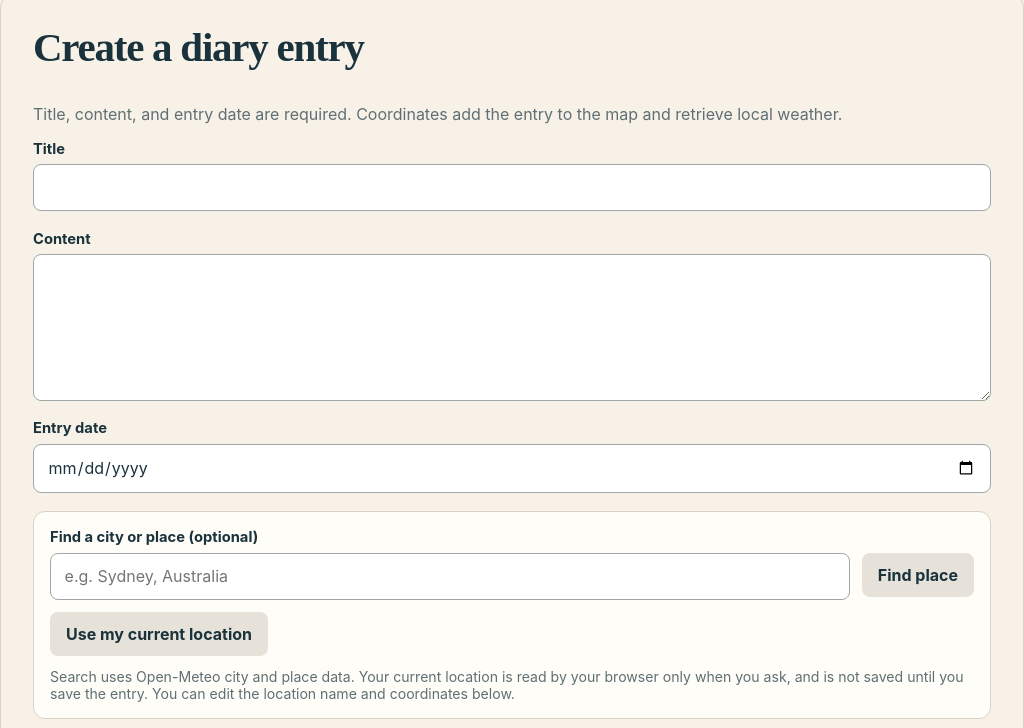
place search in diary forms › keeps manual coordinates available when the place service fails
Type "Kyoto" into the search field labelled "Find a city or place (optional)". click: (450, 576)
box: [50,553,850,600]
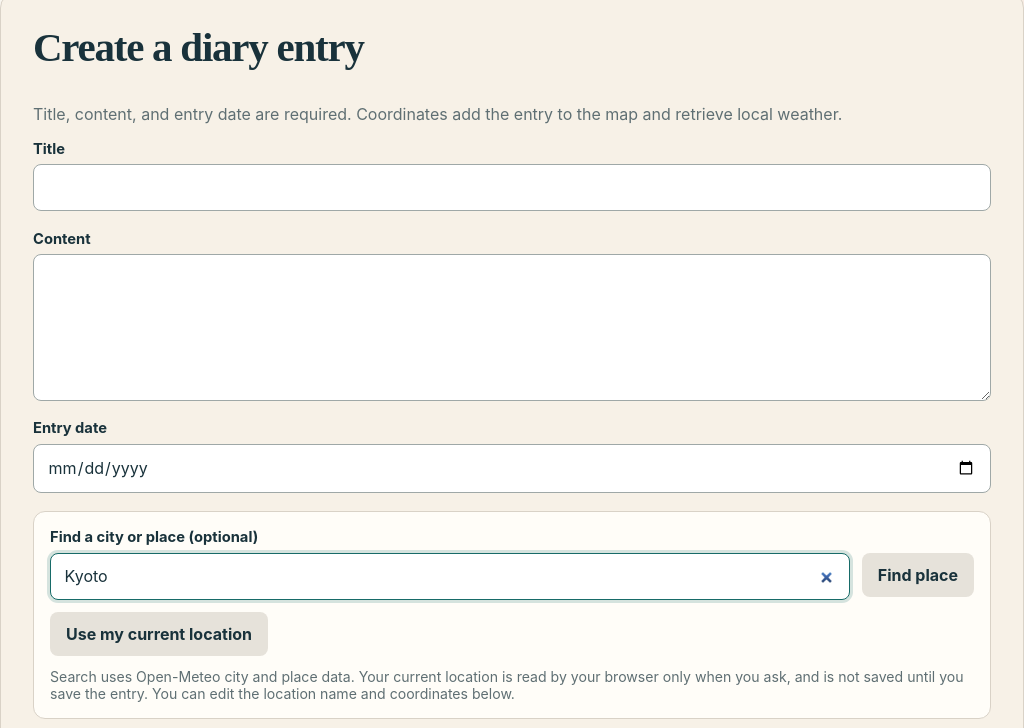
Click the button "Find place". click: (918, 575)
box: [862,553,974,597]
(page scrolled)
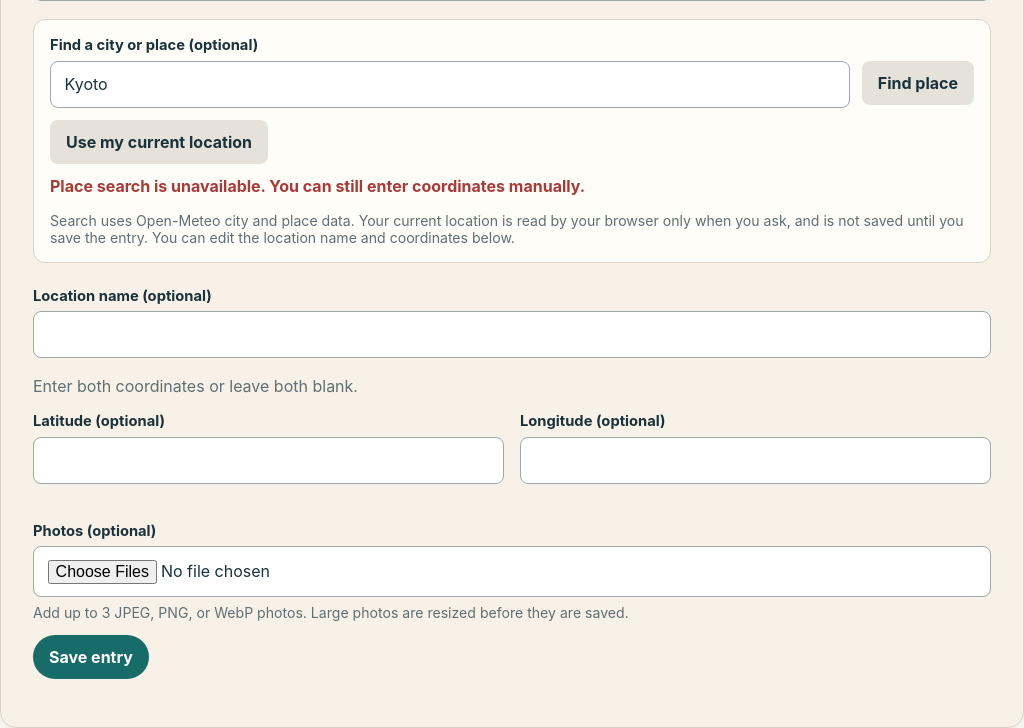
Check: the number field labelled "Latitude (optional)" is enabled, box [33,437,504,484]
Check: the message shows "Place search is unavailable", box [50,176,585,196]
